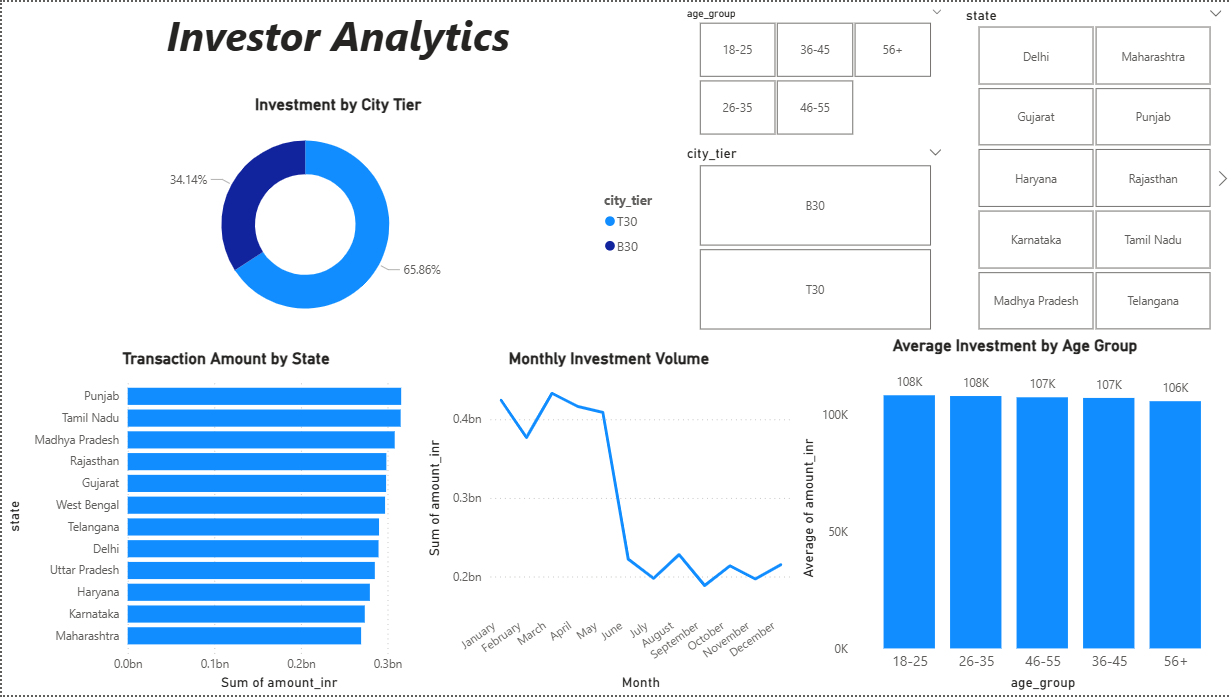

This screenshot's page, from the dashboard's own definition file:
{"tool":"powerbi","page":{"name":"Investor Analytics","canvas":[1280,720],"ordinal":2},"visuals":[{"type":"clusteredBarChart","title":"Transaction Amount by State","fields":{"Category":["Transactions.state"],"Y":["Sum(Transactions.amount_inr)"]},"box":[0,360,465.7,360],"z":0},{"type":"donutChart","title":"Investment by City Tier","fields":{"Y":["Sum(Transactions.amount_inr)"],"Category":["Transactions.city_tier"]},"box":[0,95.7,698.6,251.4],"z":1000},{"type":"lineChart","title":"Monthly Investment Volume","fields":{"Category":["Transactions.transaction_date.Variation.Date Hierarchy.Month"],"Y":["Sum(Transactions.amount_inr)"]},"box":[435.7,360,388.6,360],"z":2000},{"type":"clusteredColumnChart","title":"Average Investment by Age Group","fields":{"Category":["Transactions.age_group"],"Y":["Avg(Transactions.amount_inr)"]},"box":[824.3,347.1,455.7,372.9],"z":3000},{"type":"slicer","fields":{"Values":["Transactions.state"]},"box":[988.6,0,291.4,347.1],"z":4000},{"type":"slicer","fields":{"Values":["Transactions.age_group"]},"box":[698.6,0,290,144.3],"z":5000},{"type":"slicer","fields":{"Values":["Transactions.city_tier"]},"box":[698.6,144.3,290,202.9],"z":6000},{"type":"textbox","box":[0,0,698.6,72.9],"z":7000}]}

Visuals, with their boxes in screenshot pixels (x1, y1, x2, y2), scaled from the page's 1280x720 canvas onto the 1231x697 screenshot:
"Transaction Amount by State" clusteredBarChart: (0, 348, 448, 696)
"Investment by City Tier" donutChart: (0, 93, 672, 336)
"Monthly Investment Volume" lineChart: (419, 348, 793, 696)
"Average Investment by Age Group" clusteredColumnChart: (793, 336, 1230, 696)
slicer - Transactions.state: (951, 0, 1230, 336)
slicer - Transactions.age_group: (672, 0, 951, 140)
slicer - Transactions.city_tier: (672, 140, 951, 336)
textbox: (0, 0, 672, 71)
